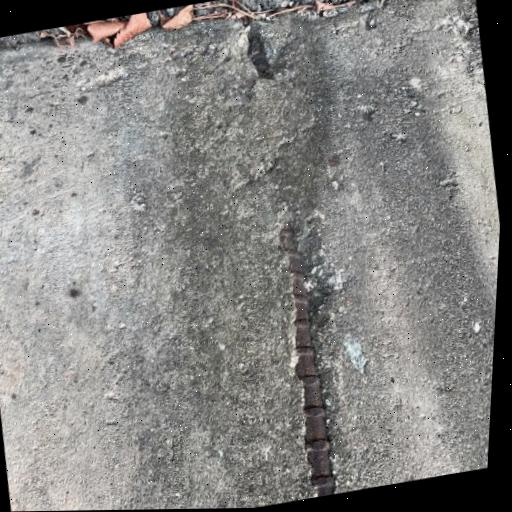exposed_rebar: (278, 232, 335, 495), (248, 30, 273, 81)
